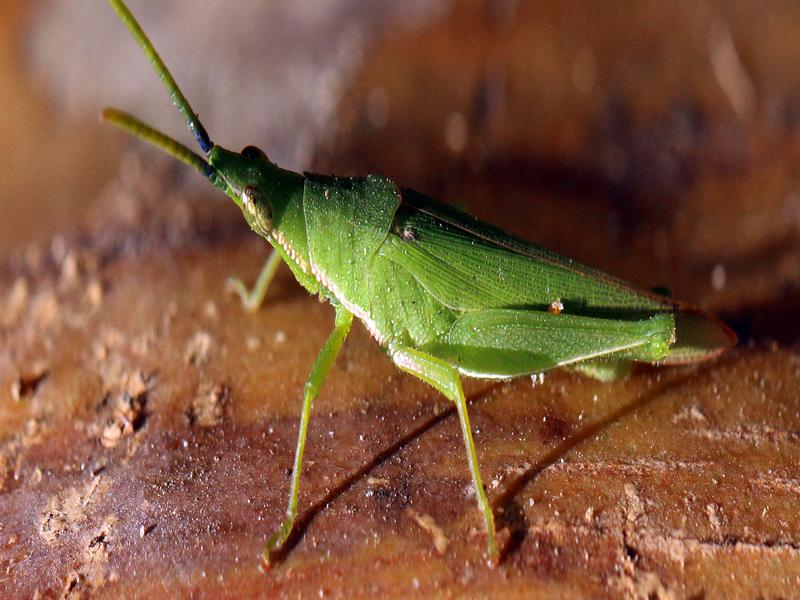Grasshopper: (141, 119, 746, 483)
